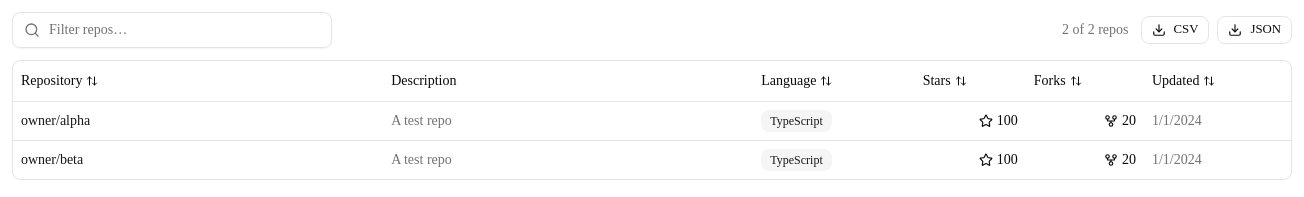
Test: StarredReposTable › filters repos by keyword
The width and height of the screenshot is (1304, 197).
Type "alpha" into the field with placeholder "Filter repos…" at [172, 30], box [12, 12, 332, 48]
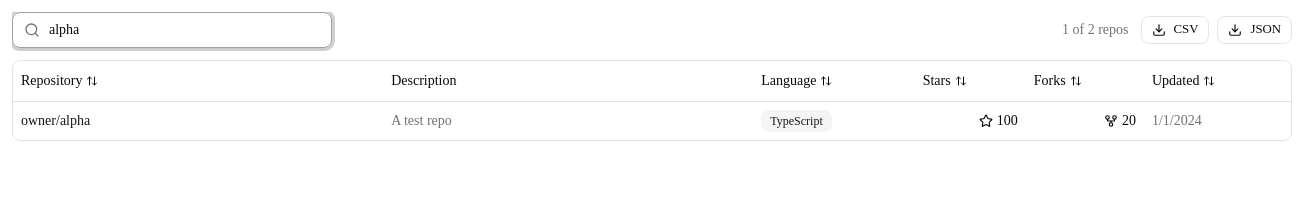
Expected: the link "owner/alpha" is shown, [21, 112, 90, 128]
Result: the link "owner/beta" is gone
